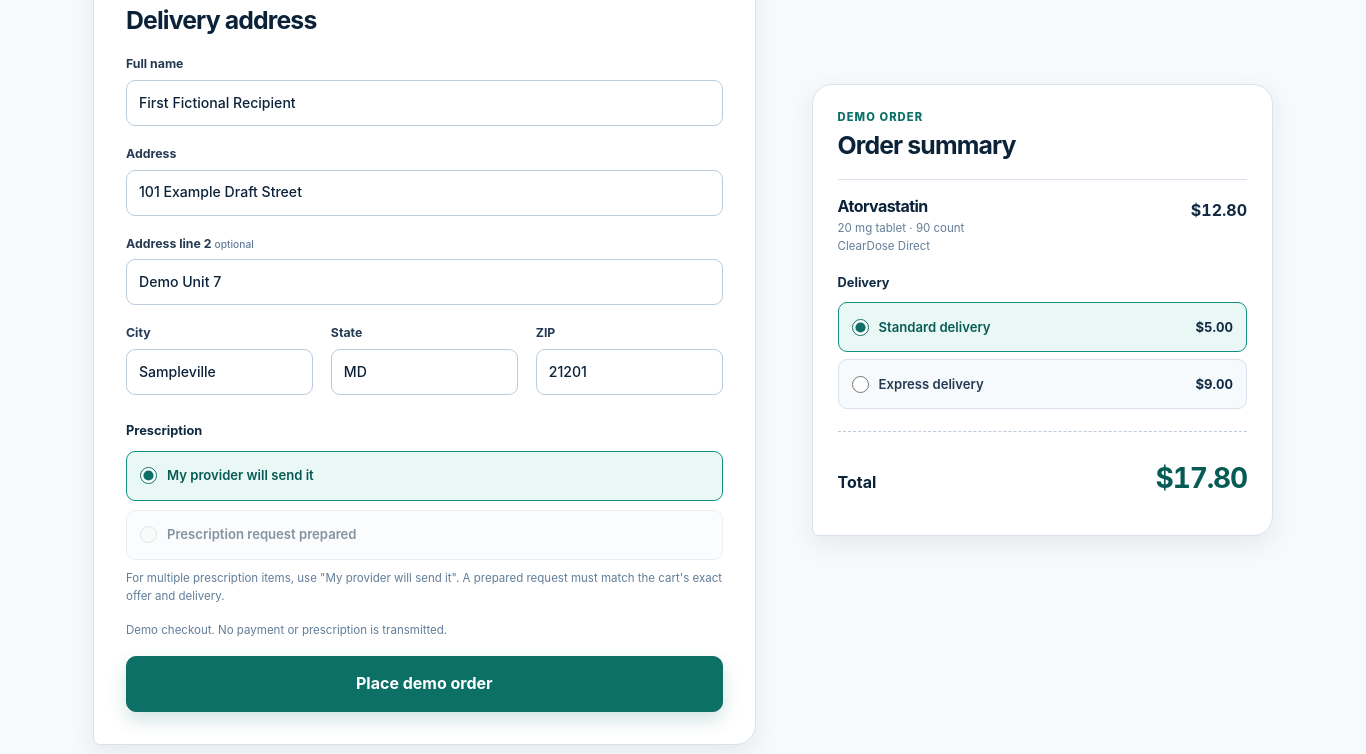
Test: visible checkout preparation through WebMCP › shows invalid human edits as a visible error and retains the draft for correction
(page scrolled)
Replace the text in the field labelled "ZIP" with "123" at point(629, 372), box [536,349,723,395]
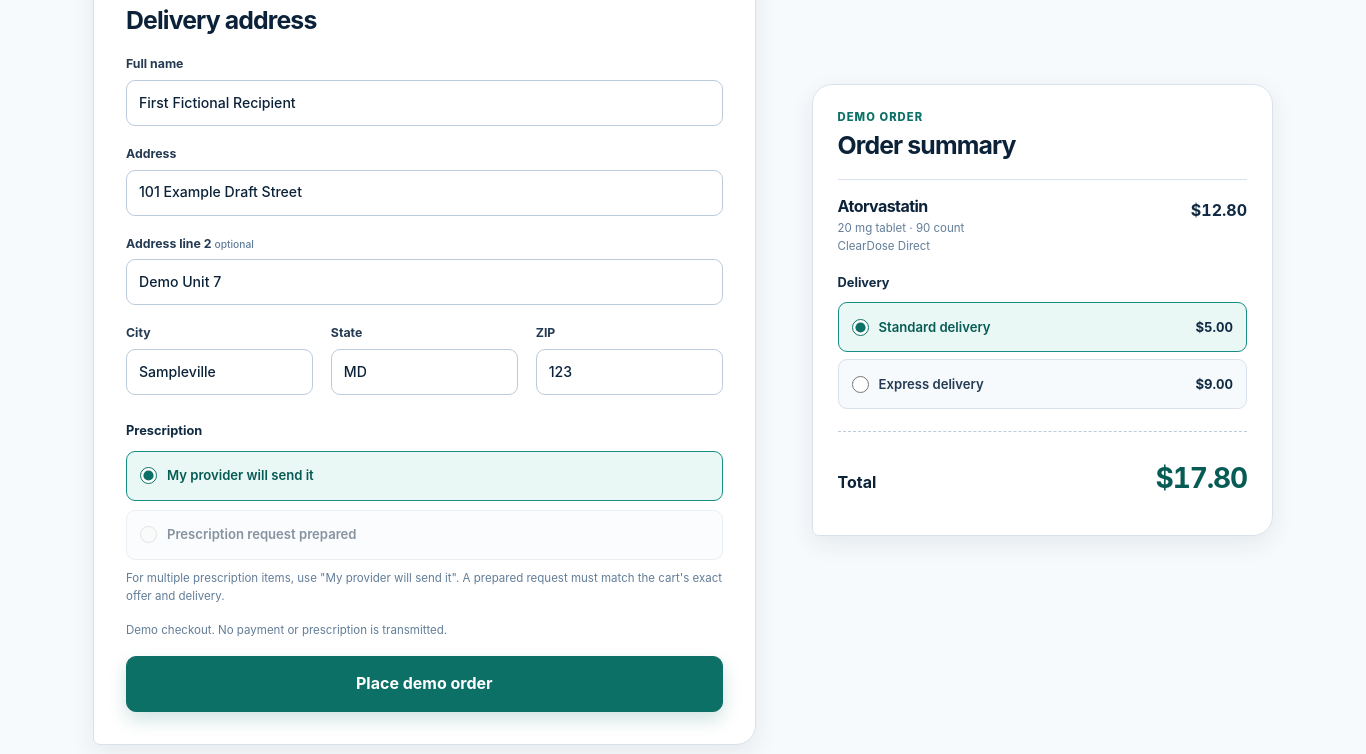
Click the button with test id "place-order" at point(424, 684), box [126,656,723,712]
(page scrolled)
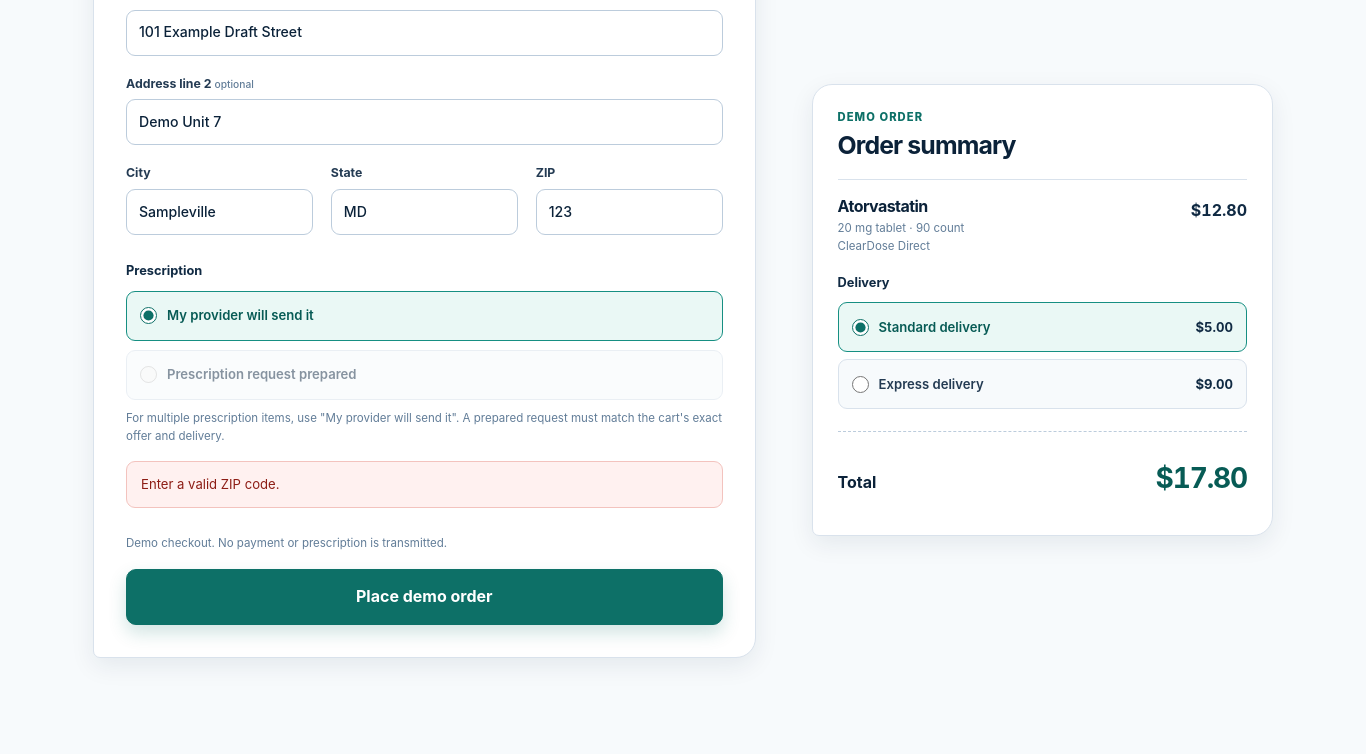
Expected: the button with test id "place-order" is enabled, [126,569,723,625]
Now the message "Enter a valid ZIP code." is shown, box [126,461,723,508]
